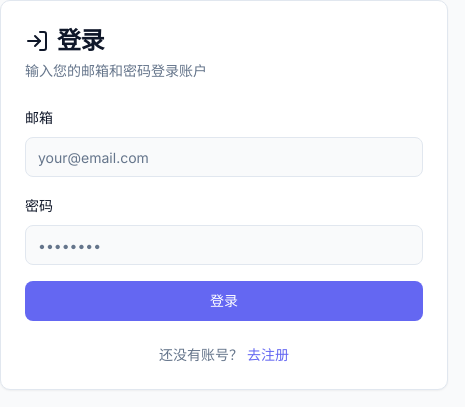
it: LoginForm › 登录功能 › 加载时应该禁用输入框
Type "test@example.com" into the field labelled "邮箱" at (224, 157), box [25,137,423,177]
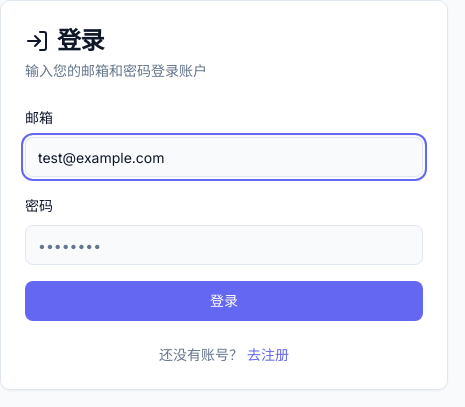
Type "password123" into the password field labelled "密码" at (224, 245), box [25,225,423,265]
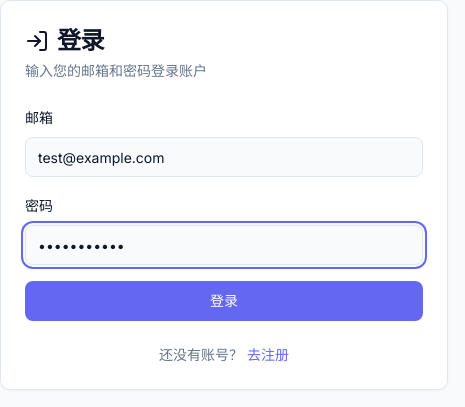
Click the button "登录" at (224, 301), box [25,281,423,321]
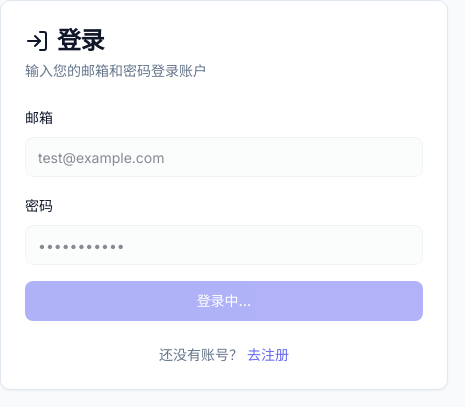
Result: the field labelled "邮箱" is disabled at [25,137,423,177]
Result: the password field labelled "密码" is disabled at [25,225,423,265]
